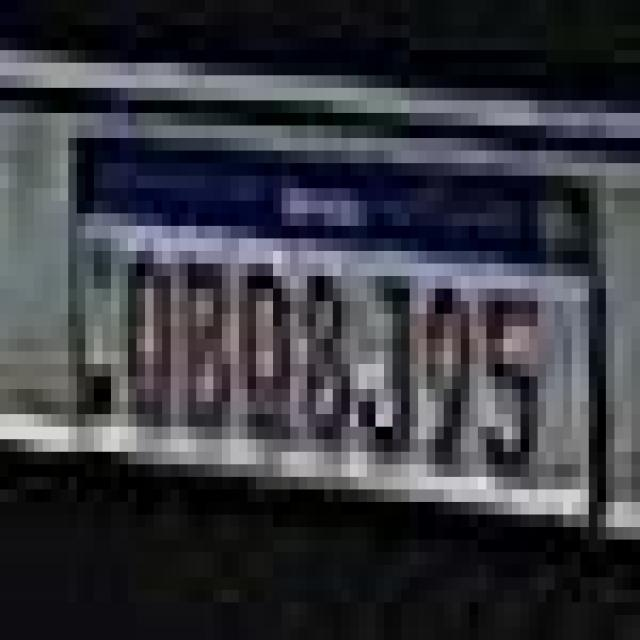5: (480, 288, 552, 467)
8: (294, 270, 354, 448)
9: (415, 284, 479, 471)
J: (352, 272, 420, 453)
